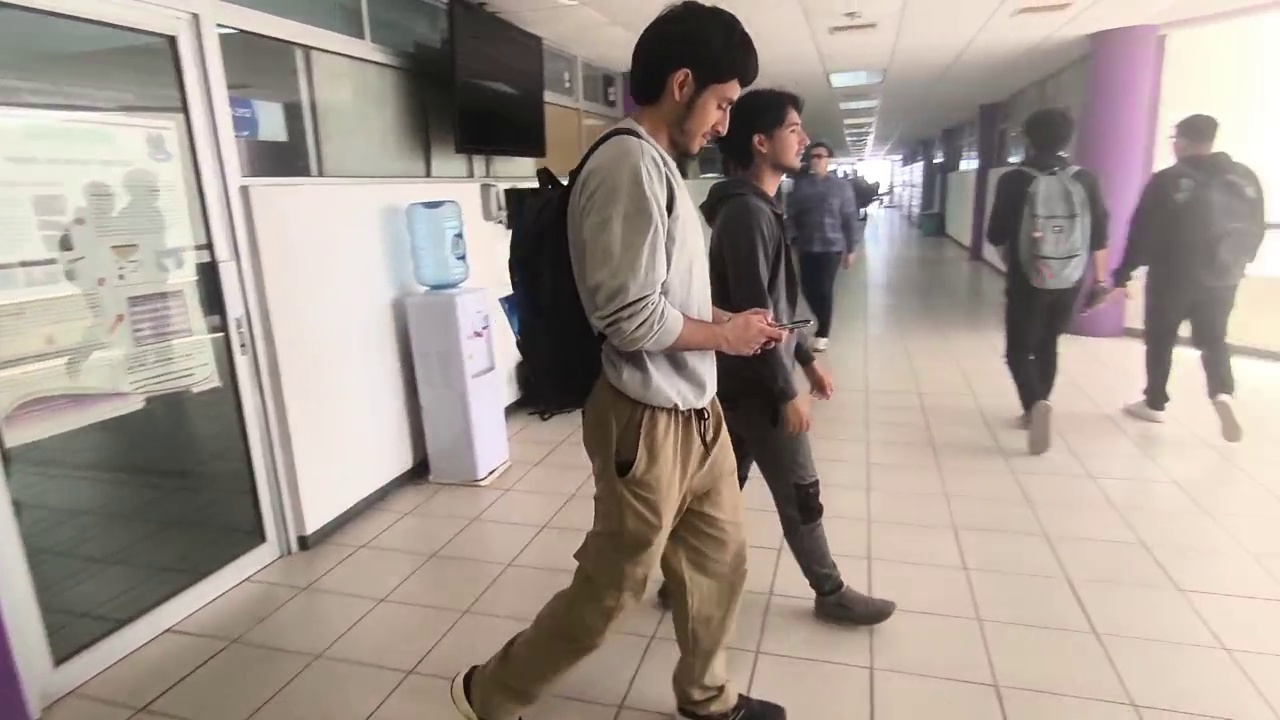mixto2: (763, 306, 819, 334)
